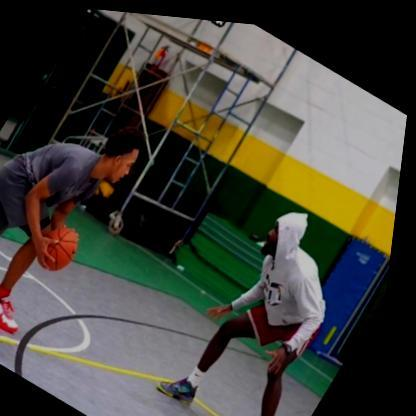basketball: (43, 219, 93, 277)
